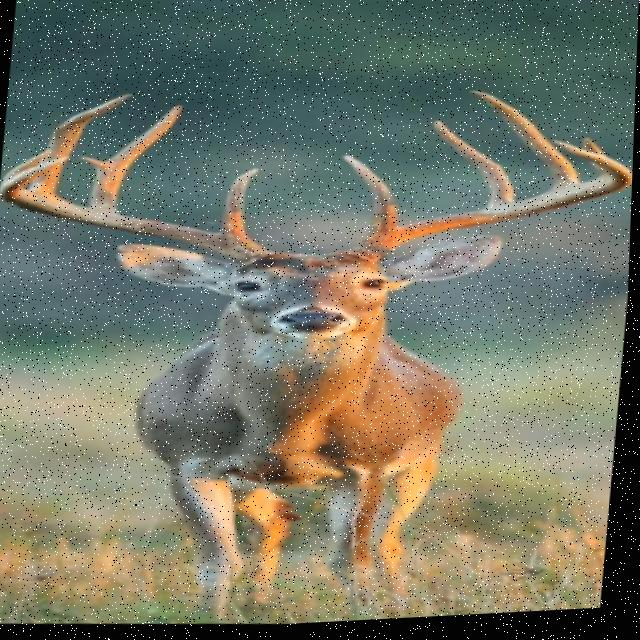E1: (80, 156, 110, 171)
L-F: (0, 157, 276, 270)
L-G1: (217, 170, 264, 246)
L-G2: (91, 106, 185, 217)
R-F: (342, 146, 634, 269)
R-G1: (341, 158, 400, 243)
R-G2: (433, 124, 518, 213)
R-G3: (468, 96, 585, 200)
